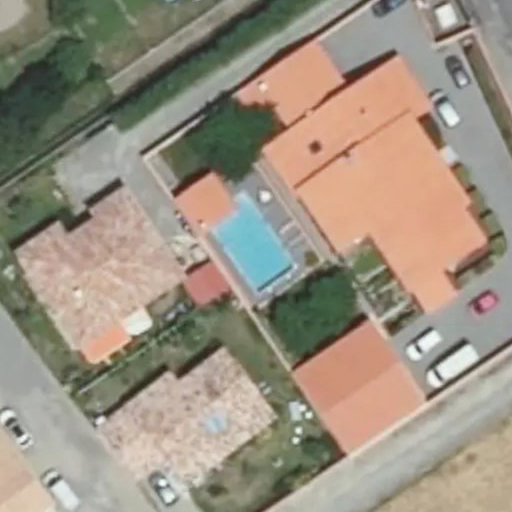pool: (209, 217, 294, 266)
